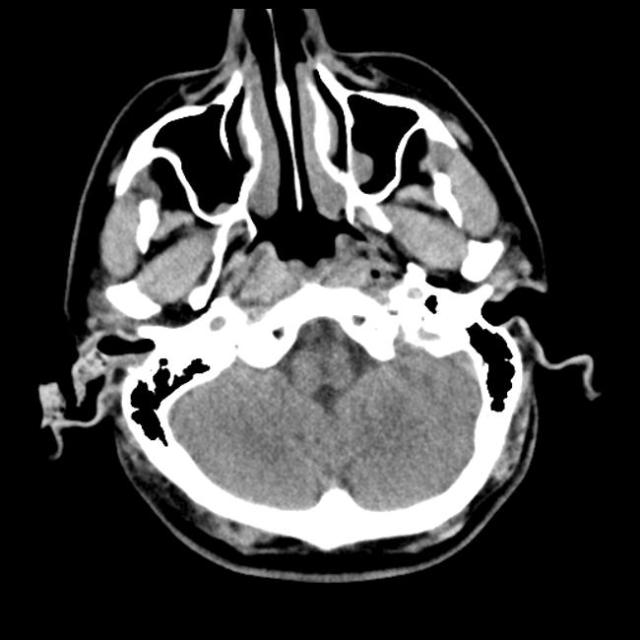lesion: (34, 7, 600, 585)
